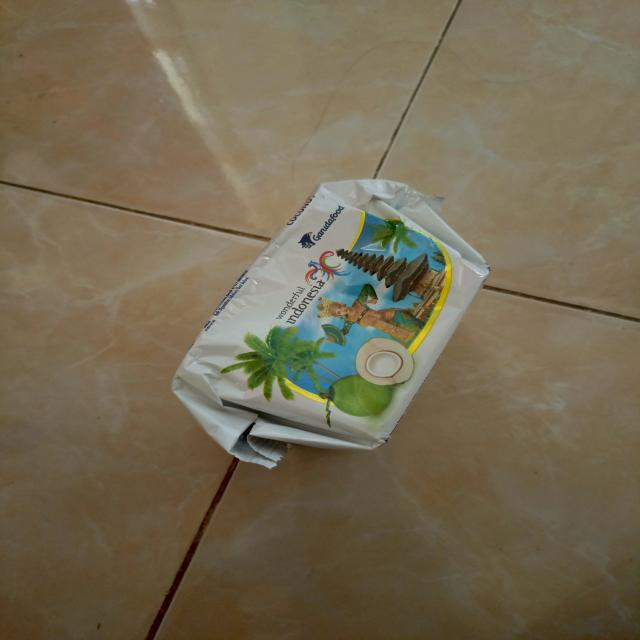gery-salut-coconut: (172, 179, 493, 471)
